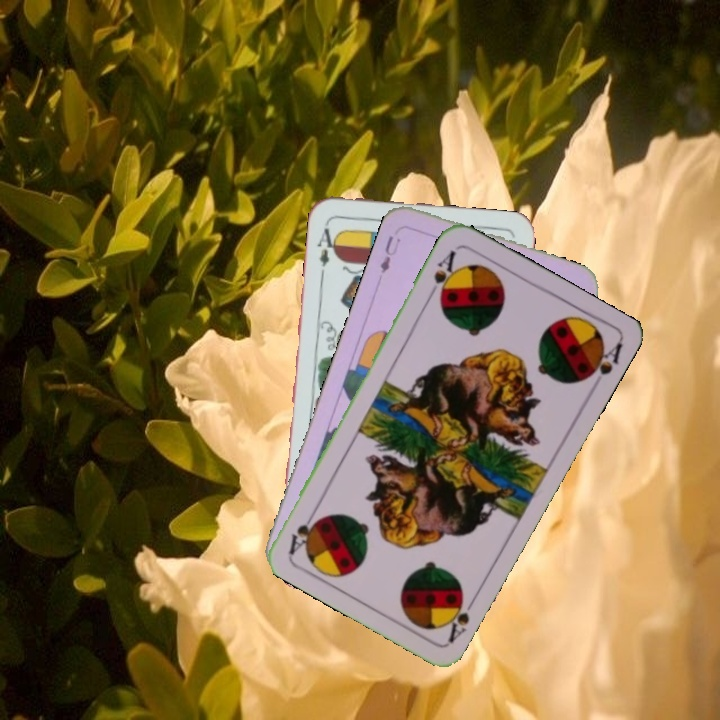EA: (312, 218, 341, 269)
EU: (375, 231, 403, 276)
SA: (438, 585, 480, 646), (424, 246, 460, 304)
